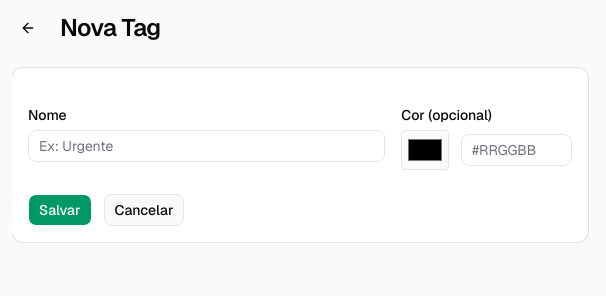
NovaTagPage › exibe erro de api quando criacao falha
The width and height of the screenshot is (606, 296).
In the field labelled "Nome": (207, 146) 28,130 -> 385,162, type "Urgente"
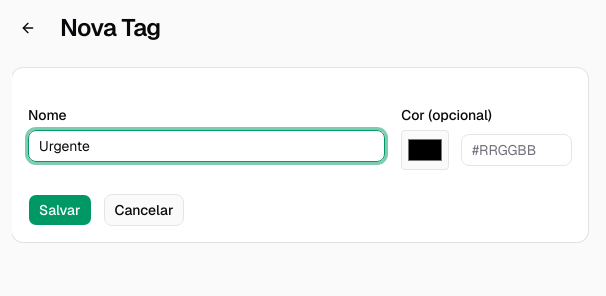
Click the button "Salvar": (60, 210) 28,194 -> 92,226
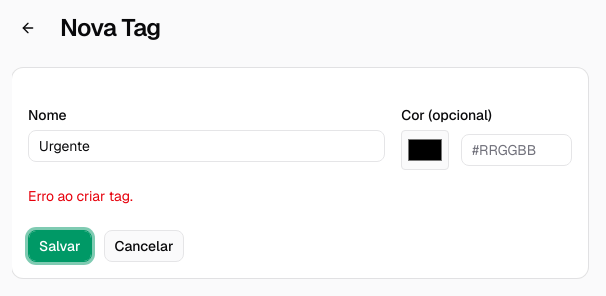
Expected: the text "Erro ao criar tag." is shown, 28,187 -> 133,205
